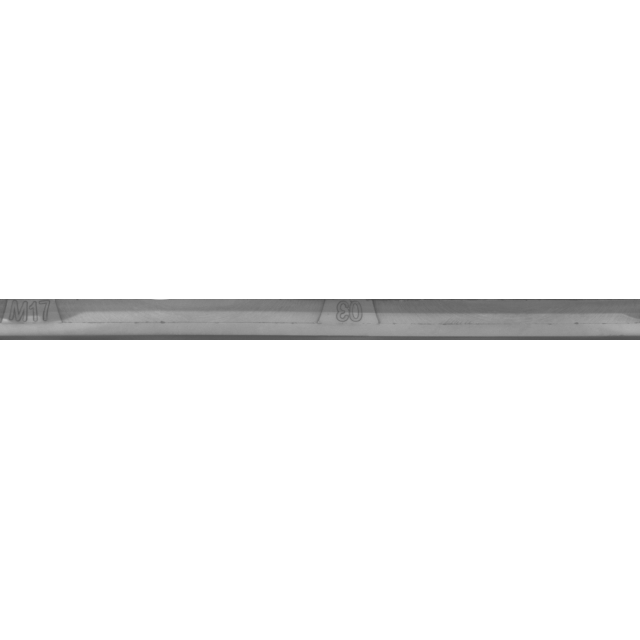mohao: (0, 270, 131, 370)
xuehao: (250, 270, 450, 370)
